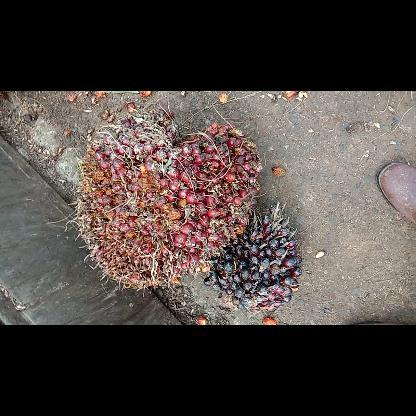TBS abnormal: (201, 208, 303, 312)
TBS masak: (66, 113, 262, 291)
